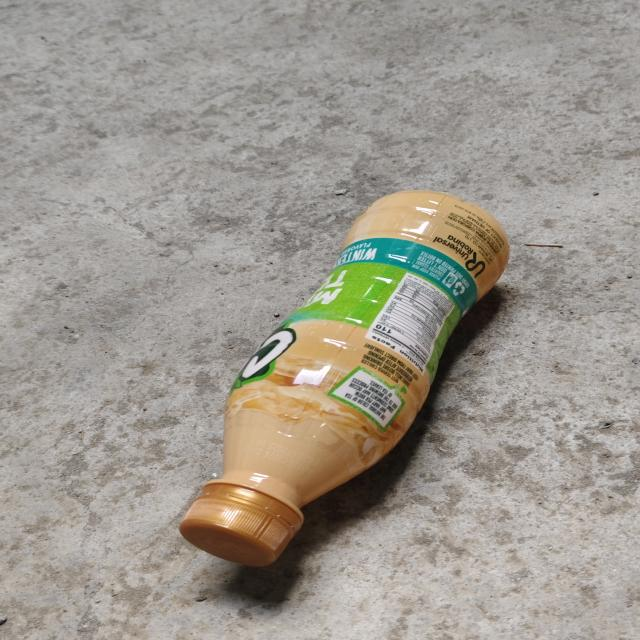Bottle: (178, 191, 511, 571)
